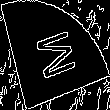M_W: (30, 25, 80, 85)
